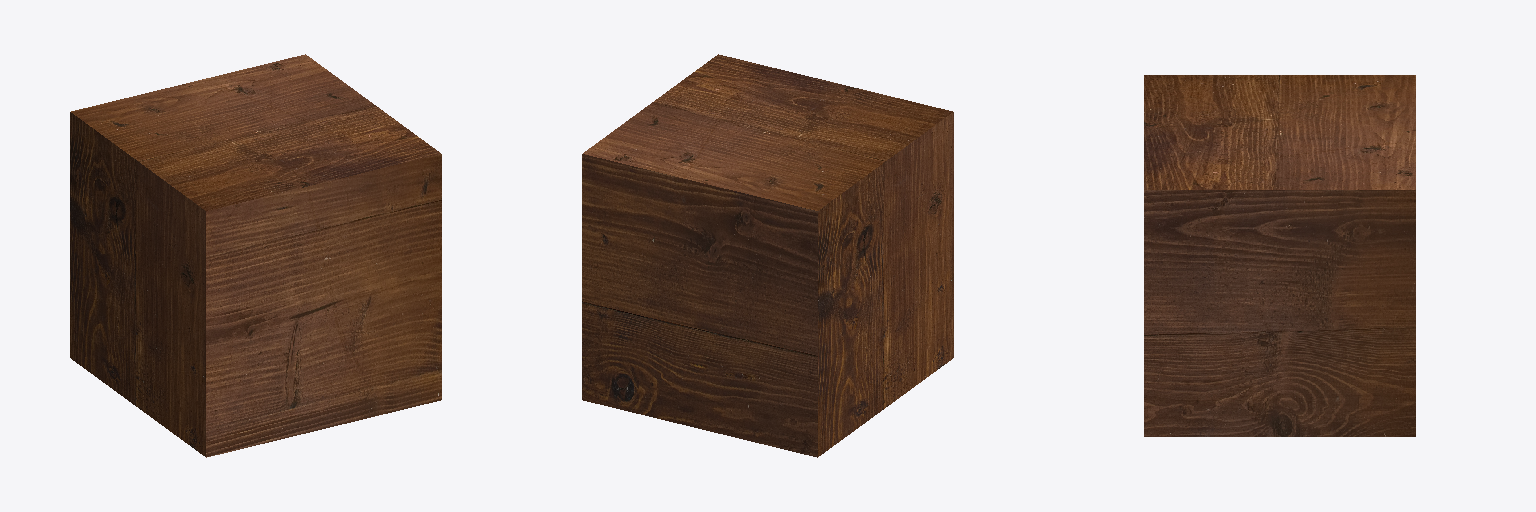
3 views of the same model, side by side, from view 1: azimuth 30°, elevation 25°; view 2: azimuth 150°, elevation 25°; view 3: azimuth 270°, elevation 25° (orthographic).
Parts seen in each view (by area): view 1: Cube; view 2: Cube; view 3: Cube.
Part boxes in pixels (x1,y1,x2,y2): Cube: (70, 54, 441, 457); Cube: (582, 54, 953, 457); Cube: (1144, 75, 1415, 436).
Bounding box in the file's own units: 2 × 2 × 2.
1 materials, 1 textured.